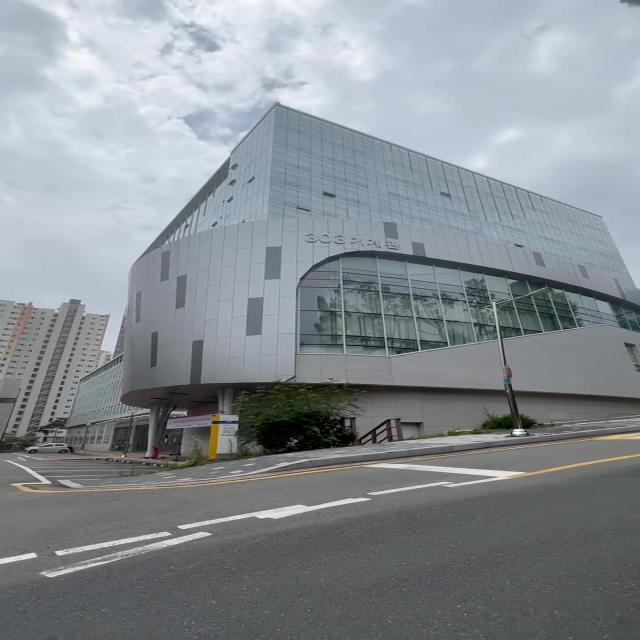building: (115, 151, 640, 400)
